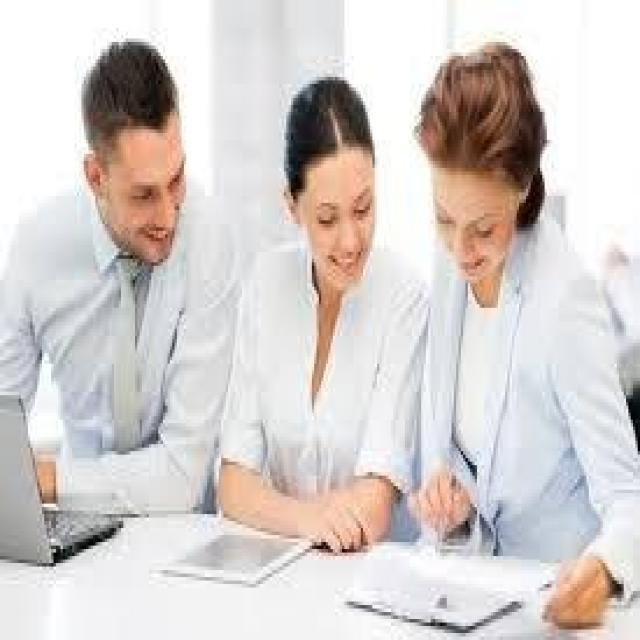person: (412, 4, 638, 619), (2, 35, 244, 560), (226, 63, 426, 570)
